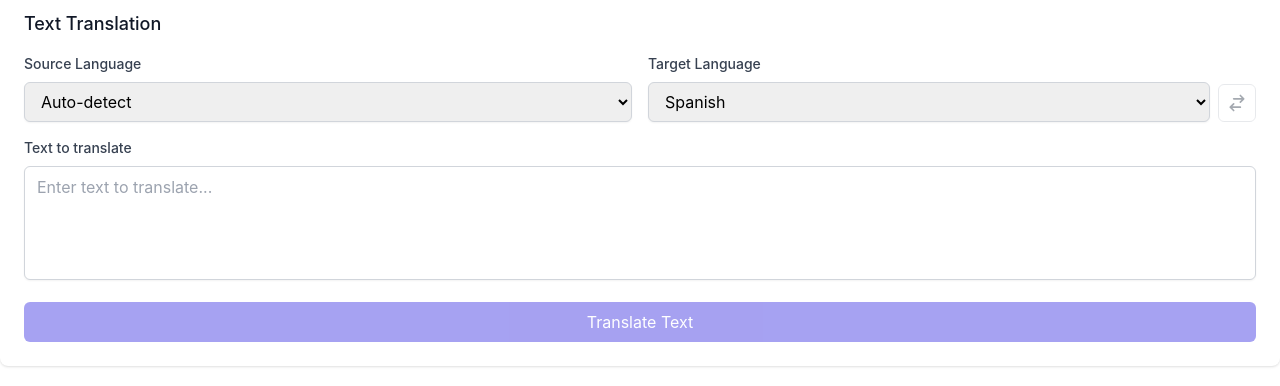
it: TextTranslation Component › translate button is enabled when input has text
In the text box with placeholder "Enter text to translate...": (640, 223) left=24, top=166, right=1256, bottom=280, type "Hello world"
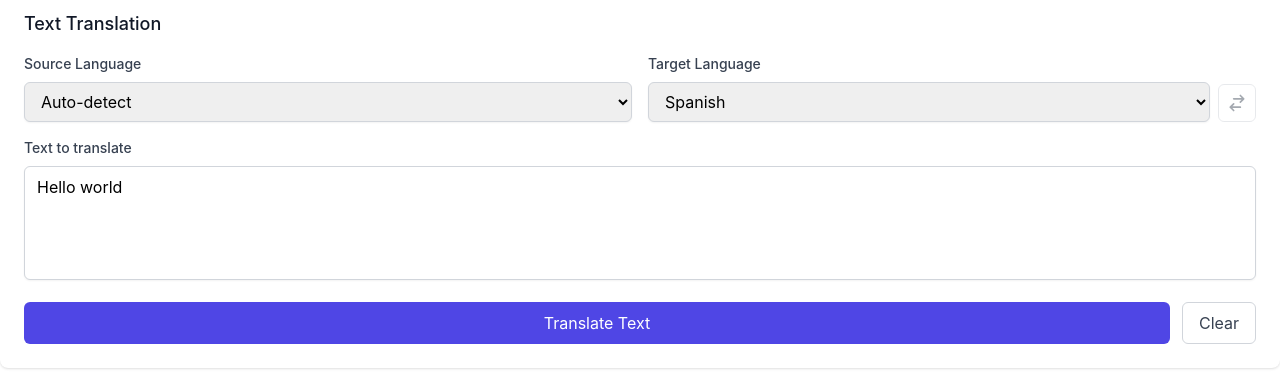
Now the button "Translate Text" is enabled, box left=24, top=302, right=1170, bottom=344
